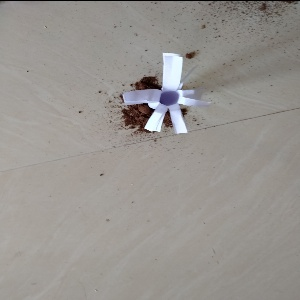weed: (122, 54, 211, 136)
